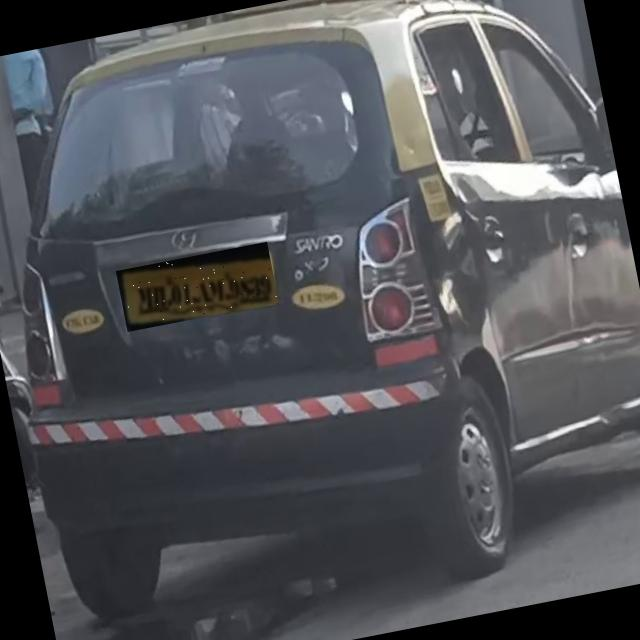Plate: (117, 243, 280, 333)
